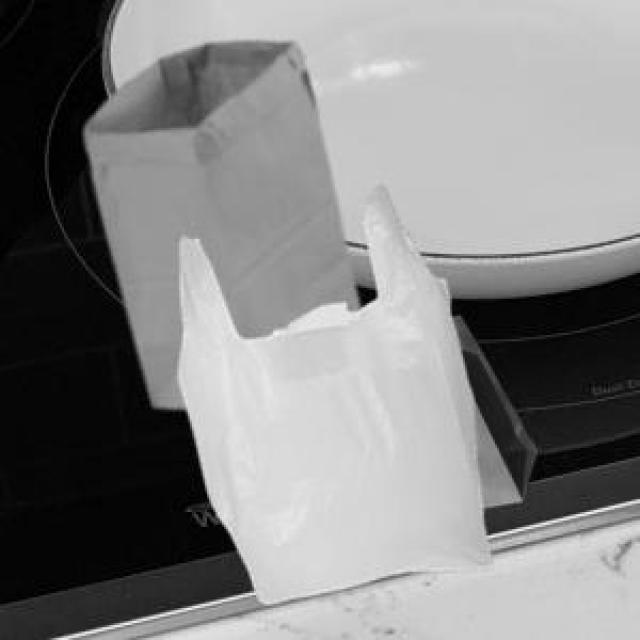paper: (81, 38, 356, 403), (448, 312, 533, 504)
